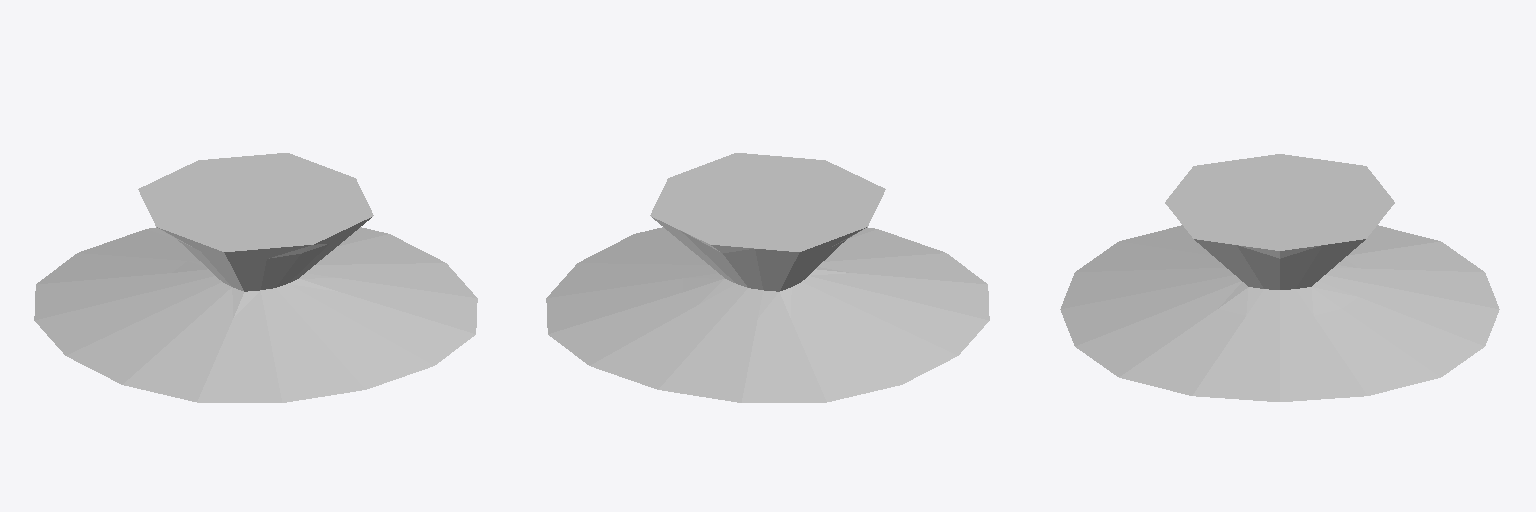
Rendered from OverhangComplex.obj.
The picture shows the model from 3 angles: view 1: azimuth 30°, elevation 25°; view 2: azimuth 150°, elevation 25°; view 3: azimuth 270°, elevation 25°; orthographic projection.
Parts seen in each view (by area): view 1: Cube1; view 2: Cube1; view 3: Cube1.
Boxes of the visible parts, x1=… form: Cube1: x1=34, y1=153, x2=477, y2=402; Cube1: x1=546, y1=153, x2=989, y2=402; Cube1: x1=1060, y1=154, x2=1499, y2=401.
Size of the model in its own units: 3.81 by 1.02 by 3.81.